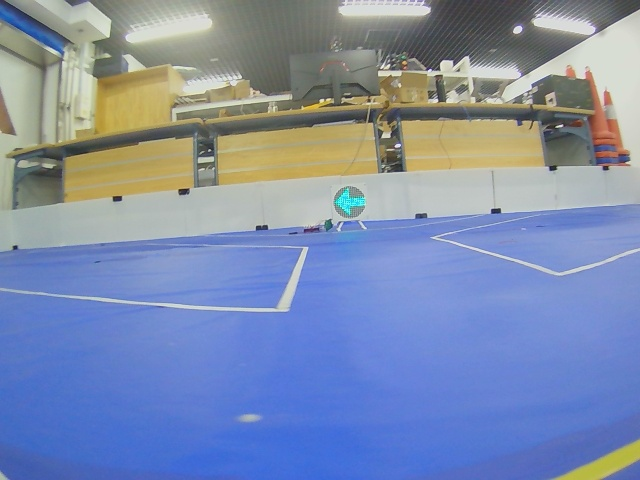left_green: (332, 186, 367, 220)
